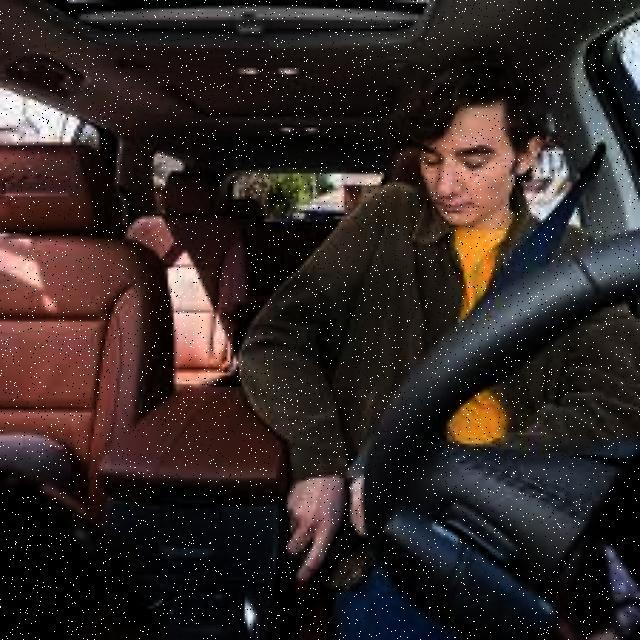seatbelt: (456, 159, 574, 303)
